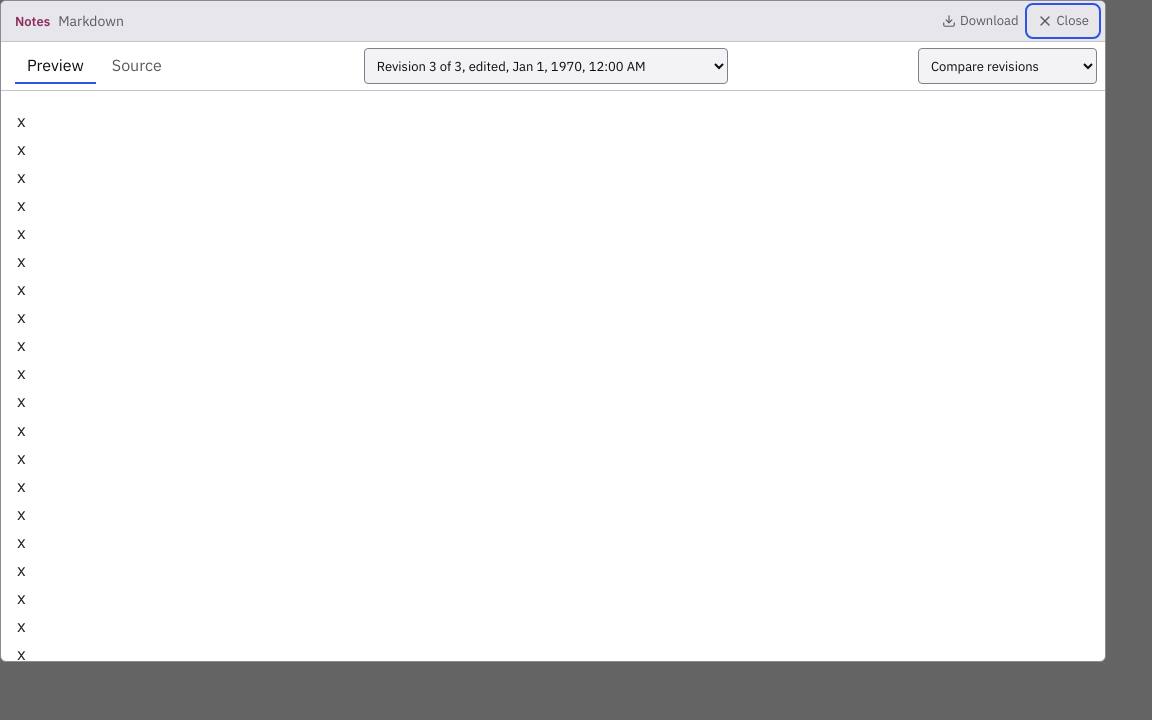
Test: names a failed revision read and offers downloads when a comparison is too long
This screenshot has width=1152, height=720.
Select "Compare with revision 2" in the 2nd dropdown named "Compare with revision" at (1007, 66), box [918, 48, 1097, 84]
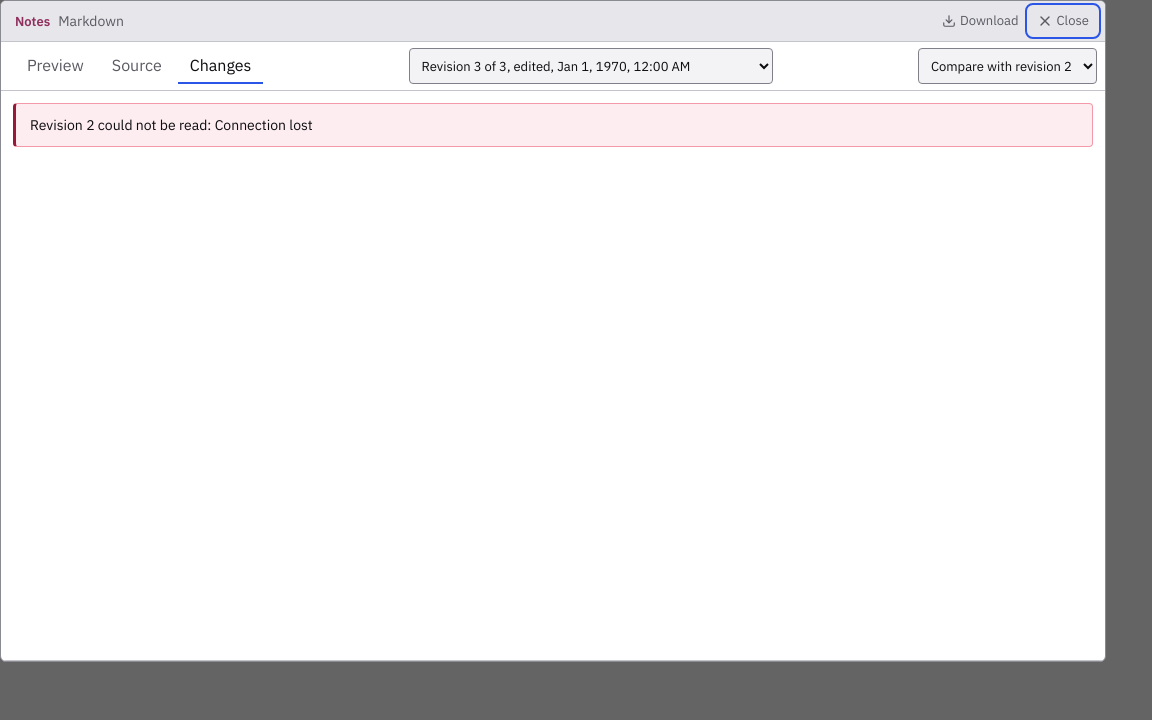
Result: the text "Revision 2 could not be read: Connection lost" is shown at [13, 103, 1093, 147]
Select "Compare with revision 1" in the 2nd dropdown named "Compare with revision" at (1007, 66), box [918, 48, 1097, 84]
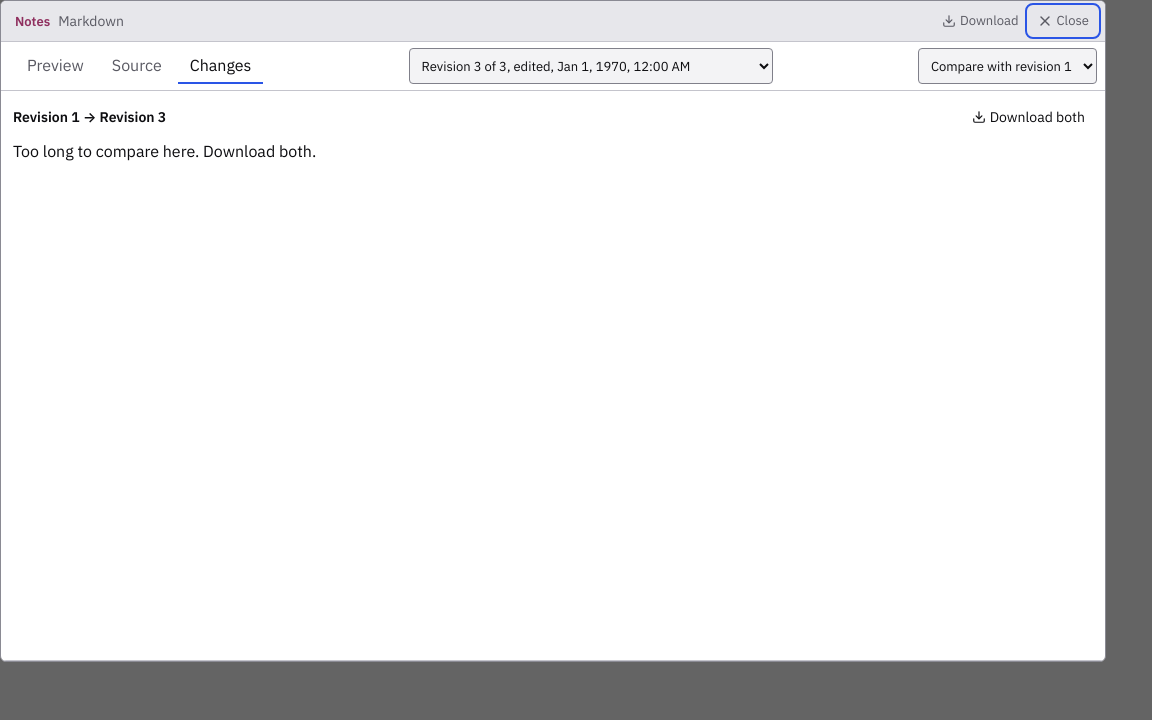
Result: the text "Too long to compare here. Download both." is shown at [13, 141, 316, 161]
Result: the button "Download both" is enabled at [964, 103, 1093, 131]
